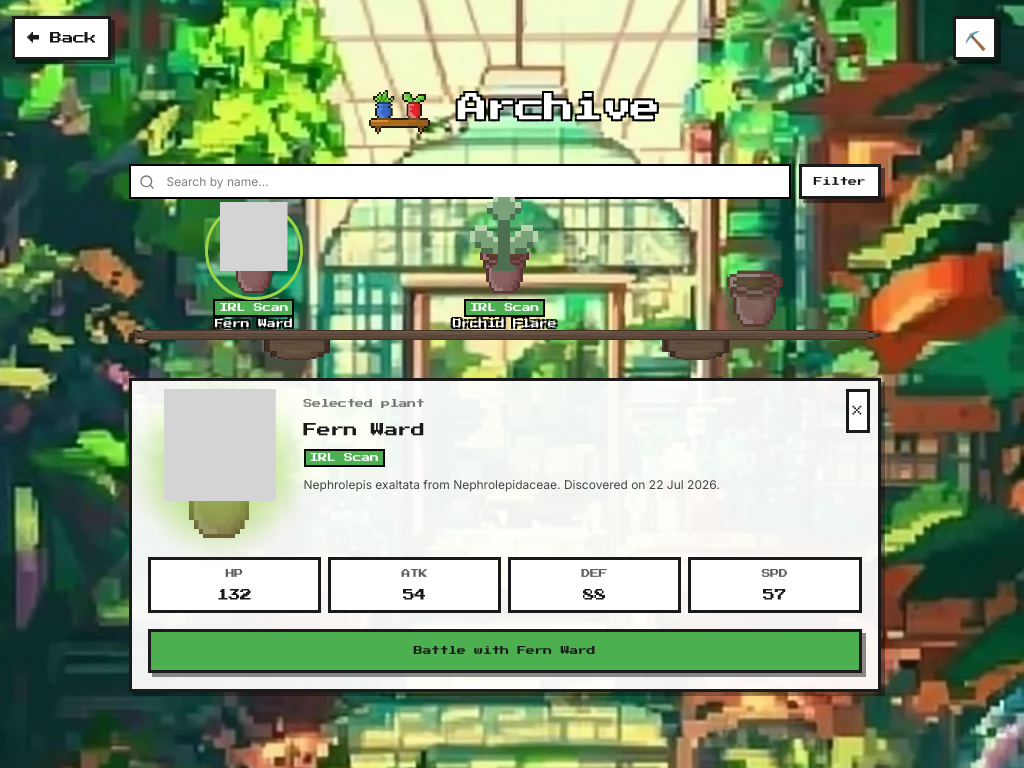
Scenario: ArchivePage › digs up one plant through the shovel after confirming
The image size is (1024, 768).
Click the button named "remove plants" at (975, 38), box [953,16,997,60]
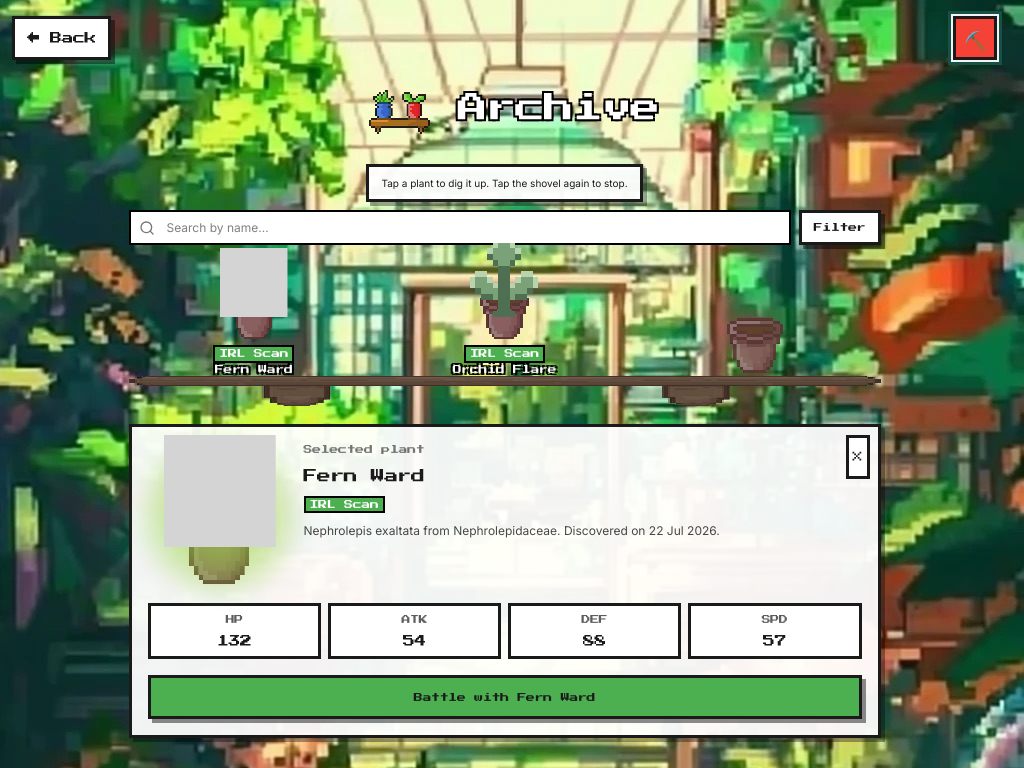
Now the text "Tap a plant to dig it up. Tap the shovel again to stop." is shown, box [366,164,643,202]
Click the button with aria-label "dig up fern ward" at (254, 315), box [128,253,379,376]
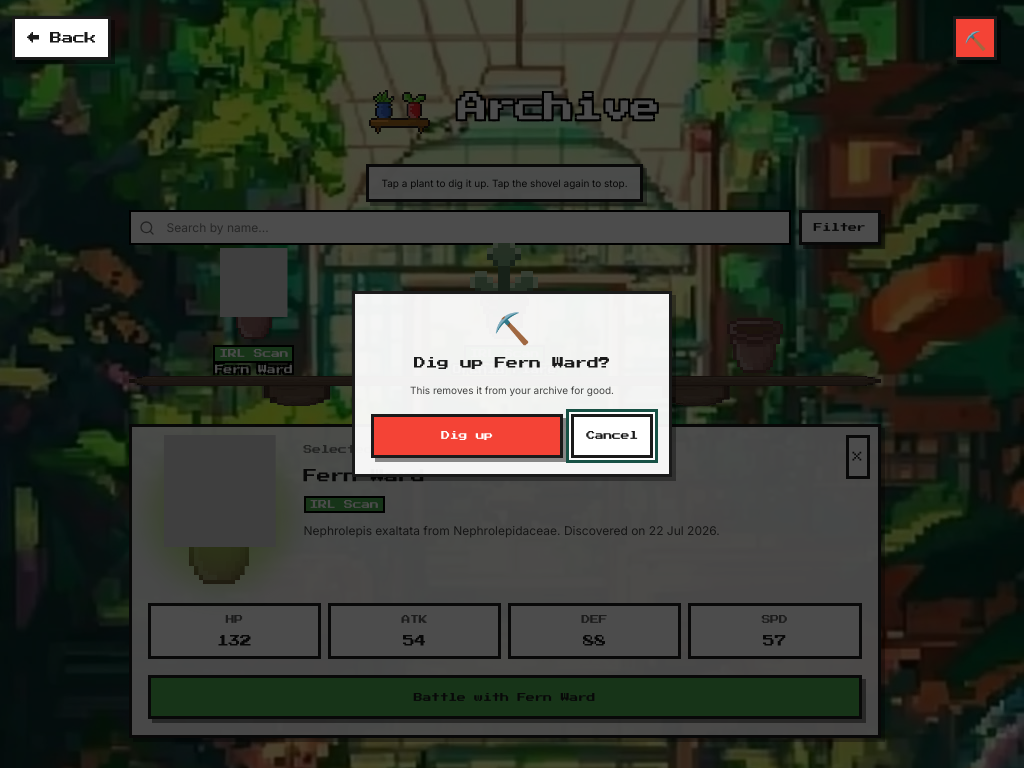
Click the button "Dig up" at (467, 436), box [371,414,563,458]
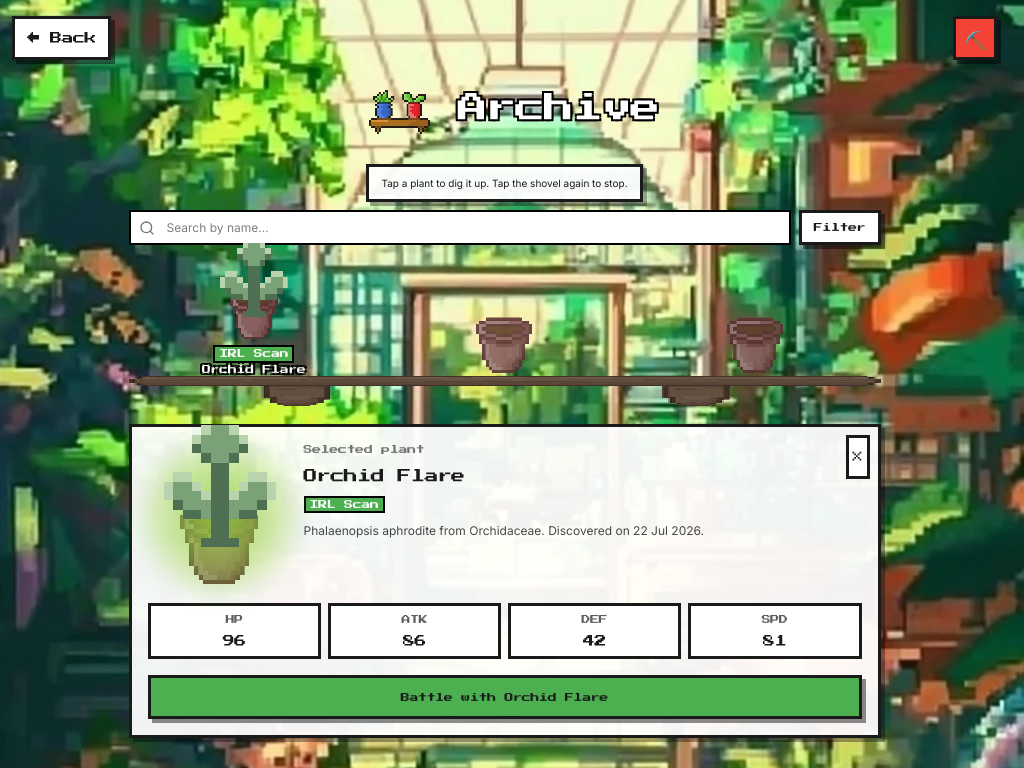
Now the heading "Orchid Flare" is shown, box [304,469,465,483]
Now the heading "Dig up Fern Ward" is gone
